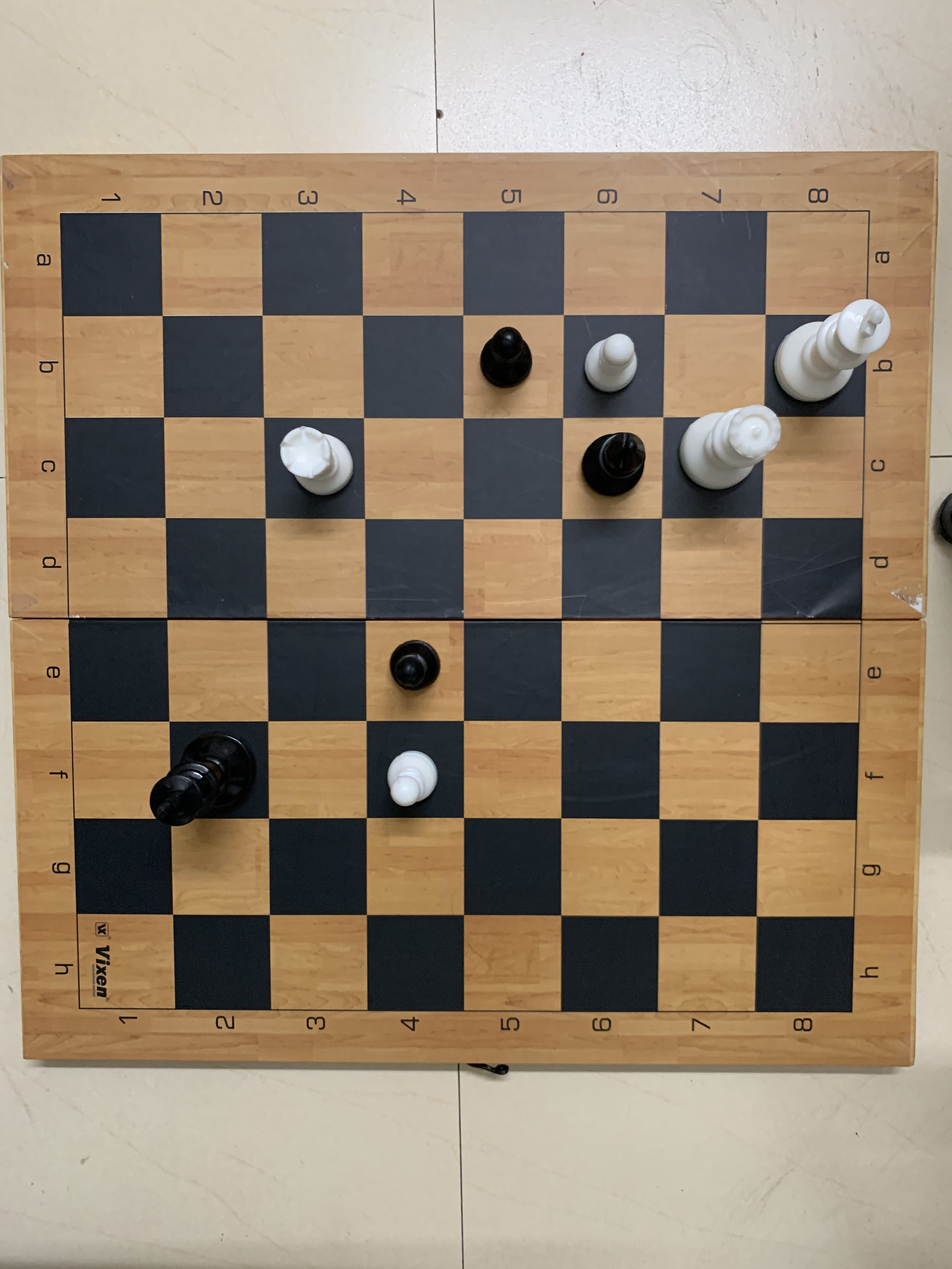black_king: (140, 722, 269, 830)
black_knight: (580, 428, 659, 498)
black_pawn: (379, 630, 452, 700), (479, 321, 538, 397)
white_king: (770, 294, 902, 399)
white_pawn: (384, 741, 444, 808), (584, 333, 647, 392)
white_queen: (678, 399, 789, 496)
white_rook: (271, 422, 360, 504)
